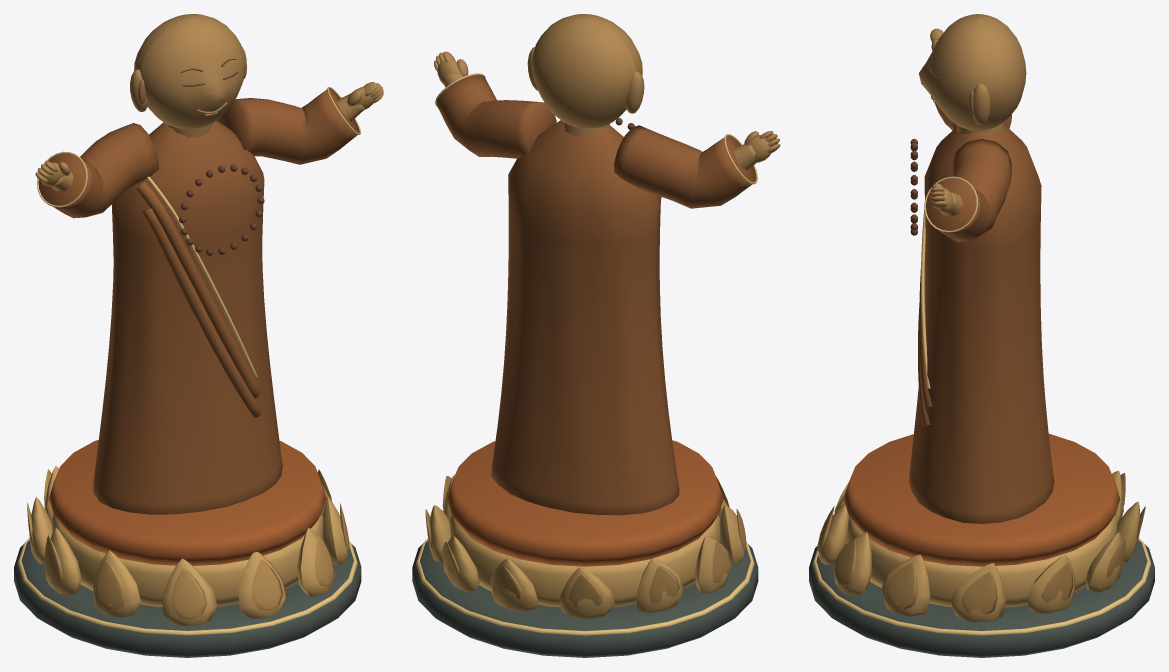
File: arhat_07_lod1.glb
3 renders of one model, left to right at view 1: azimuth 30°, elevation 25°; view 2: azimuth 150°, elevation 25°; view 3: azimuth 270°, elevation 25°, orthographic.
Parts seen in each view (by area): view 1: arhat_07_ArhatDrapery, arhat_07_SaffronDrapery, arhat_07_AntiqueGold, arhat_07_CarvedPlinth, arhat_07_WarmBronze, arhat_07_GoldPetalRelief, arhat_07_RaisedGoldBorders, arhat_07_PolishedPrayerBeads; view 2: arhat_07_ArhatDrapery, arhat_07_SaffronDrapery, arhat_07_CarvedPlinth, arhat_07_AntiqueGold, arhat_07_WarmBronze, arhat_07_GoldPetalRelief, arhat_07_RaisedGoldBorders; view 3: arhat_07_ArhatDrapery, arhat_07_SaffronDrapery, arhat_07_CarvedPlinth, arhat_07_AntiqueGold, arhat_07_WarmBronze, arhat_07_GoldPetalRelief, arhat_07_RaisedGoldBorders, arhat_07_PolishedPrayerBeads.
Boxes of the visible parts, left/top/right/bottom form: arhat_07_ArhatDrapery: left=38, top=88, right=359, bottom=514; arhat_07_SaffronDrapery: left=49, top=440, right=326, bottom=565; arhat_07_AntiqueGold: left=29, top=466, right=349, bottom=625; arhat_07_CarvedPlinth: left=14, top=540, right=361, bottom=657; arhat_07_WarmBronze: left=35, top=14, right=383, bottom=191; arhat_07_GoldPetalRelief: left=27, top=469, right=349, bottom=619; arhat_07_RaisedGoldBorders: left=17, top=87, right=360, bottom=635; arhat_07_PolishedPrayerBeads: left=179, top=164, right=264, bottom=255; arhat_07_ArhatDrapery: left=436, top=75, right=756, bottom=515; arhat_07_SaffronDrapery: left=447, top=440, right=723, bottom=566; arhat_07_CarvedPlinth: left=412, top=540, right=758, bottom=657; arhat_07_AntiqueGold: left=427, top=474, right=746, bottom=618; arhat_07_WarmBronze: left=434, top=14, right=780, bottom=169; arhat_07_GoldPetalRelief: left=425, top=476, right=746, bottom=607; arhat_07_RaisedGoldBorders: left=416, top=73, right=757, bottom=635; arhat_07_ArhatDrapery: left=909, top=102, right=1054, bottom=523; arhat_07_SaffronDrapery: left=843, top=433, right=1120, bottom=566; arhat_07_CarvedPlinth: left=809, top=539, right=1154, bottom=657; arhat_07_AntiqueGold: left=818, top=470, right=1140, bottom=622; arhat_07_WarmBronze: left=919, top=14, right=1026, bottom=216; arhat_07_GoldPetalRelief: left=817, top=473, right=1145, bottom=614; arhat_07_RaisedGoldBorders: left=812, top=176, right=1151, bottom=635; arhat_07_PolishedPrayerBeads: left=910, top=138, right=917, bottom=235.
Size of the model in its own units: 1.06 by 1.67 by 0.92.
